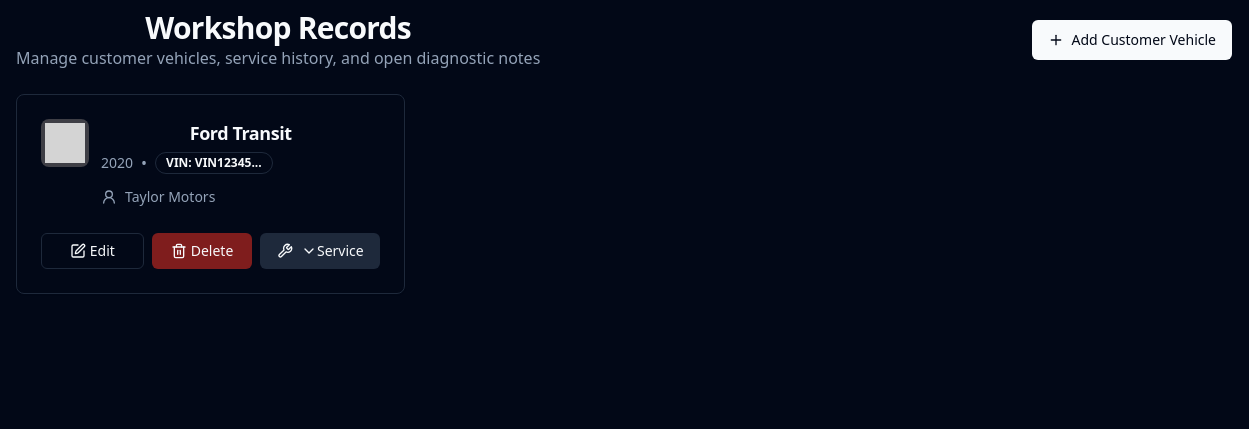
Test case: Dashboard › removes a vehicle card after a successful delete
This screenshot has width=1249, height=429.
Check: the heading "Ford Transit" is shown, box [190, 121, 292, 145]
Click the button "Delete": (202, 251) [152, 233, 252, 269]
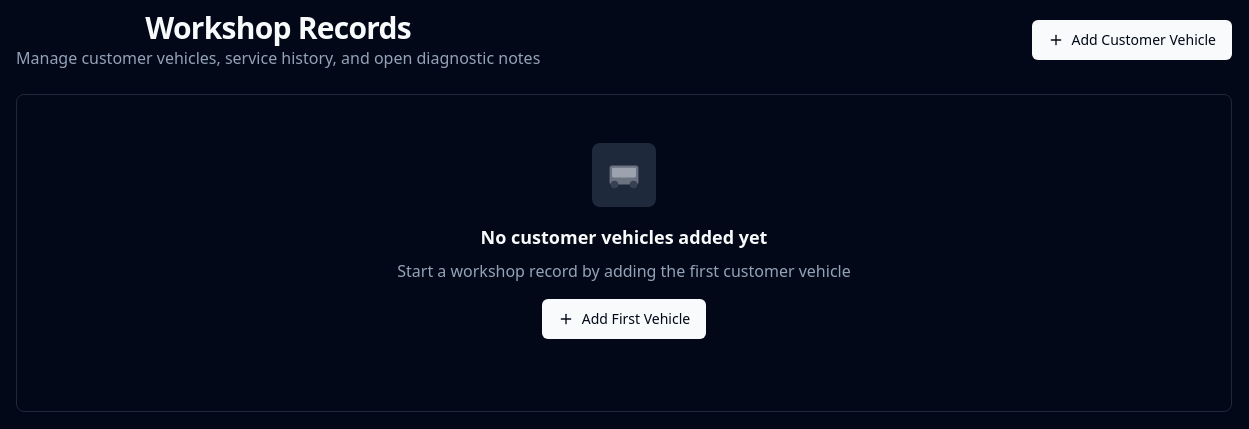
Check: the heading "Ford Transit" is gone
